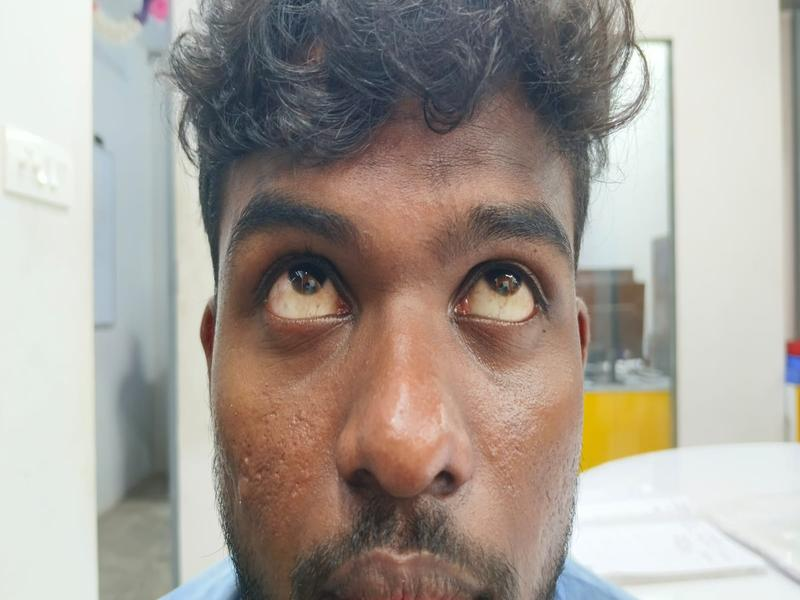EYE UP: (266, 265, 346, 322), (459, 267, 541, 322)
